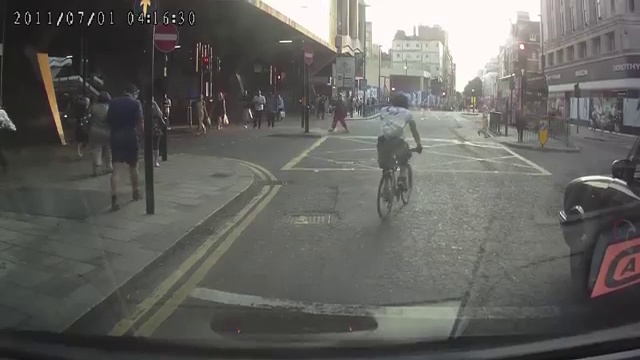cyclist_back: (372, 89, 424, 219)
